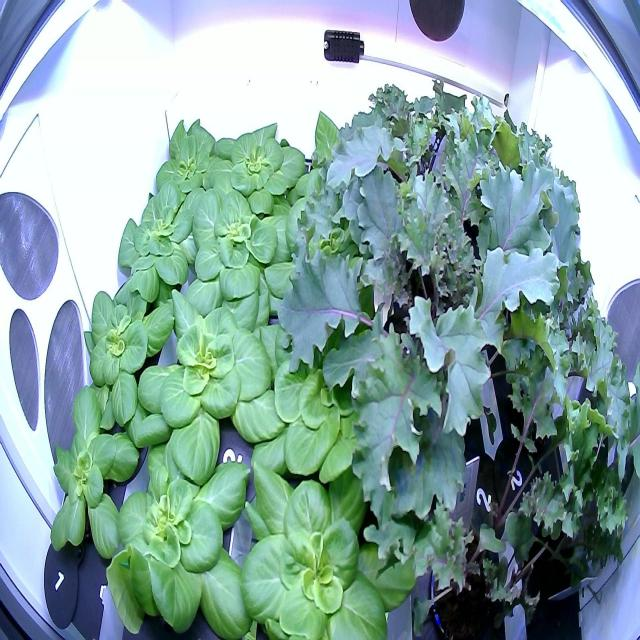young: (233, 264, 418, 499), (90, 407, 268, 640), (230, 443, 424, 640), (134, 269, 300, 495), (174, 176, 306, 349), (37, 376, 145, 578), (264, 174, 390, 315), (75, 270, 177, 432), (115, 177, 211, 309), (199, 116, 308, 232), (288, 100, 386, 213), (150, 106, 236, 223)
